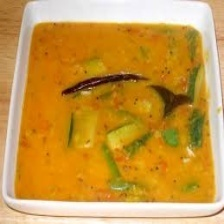dal: (18, 21, 215, 204)
